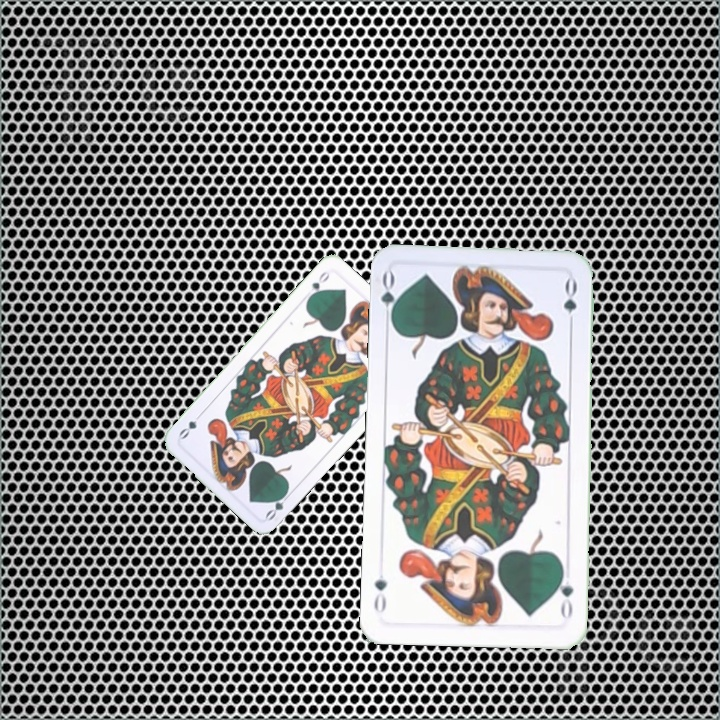GO: (377, 269, 403, 328), (553, 564, 576, 623), (261, 486, 294, 523), (304, 267, 333, 302)
